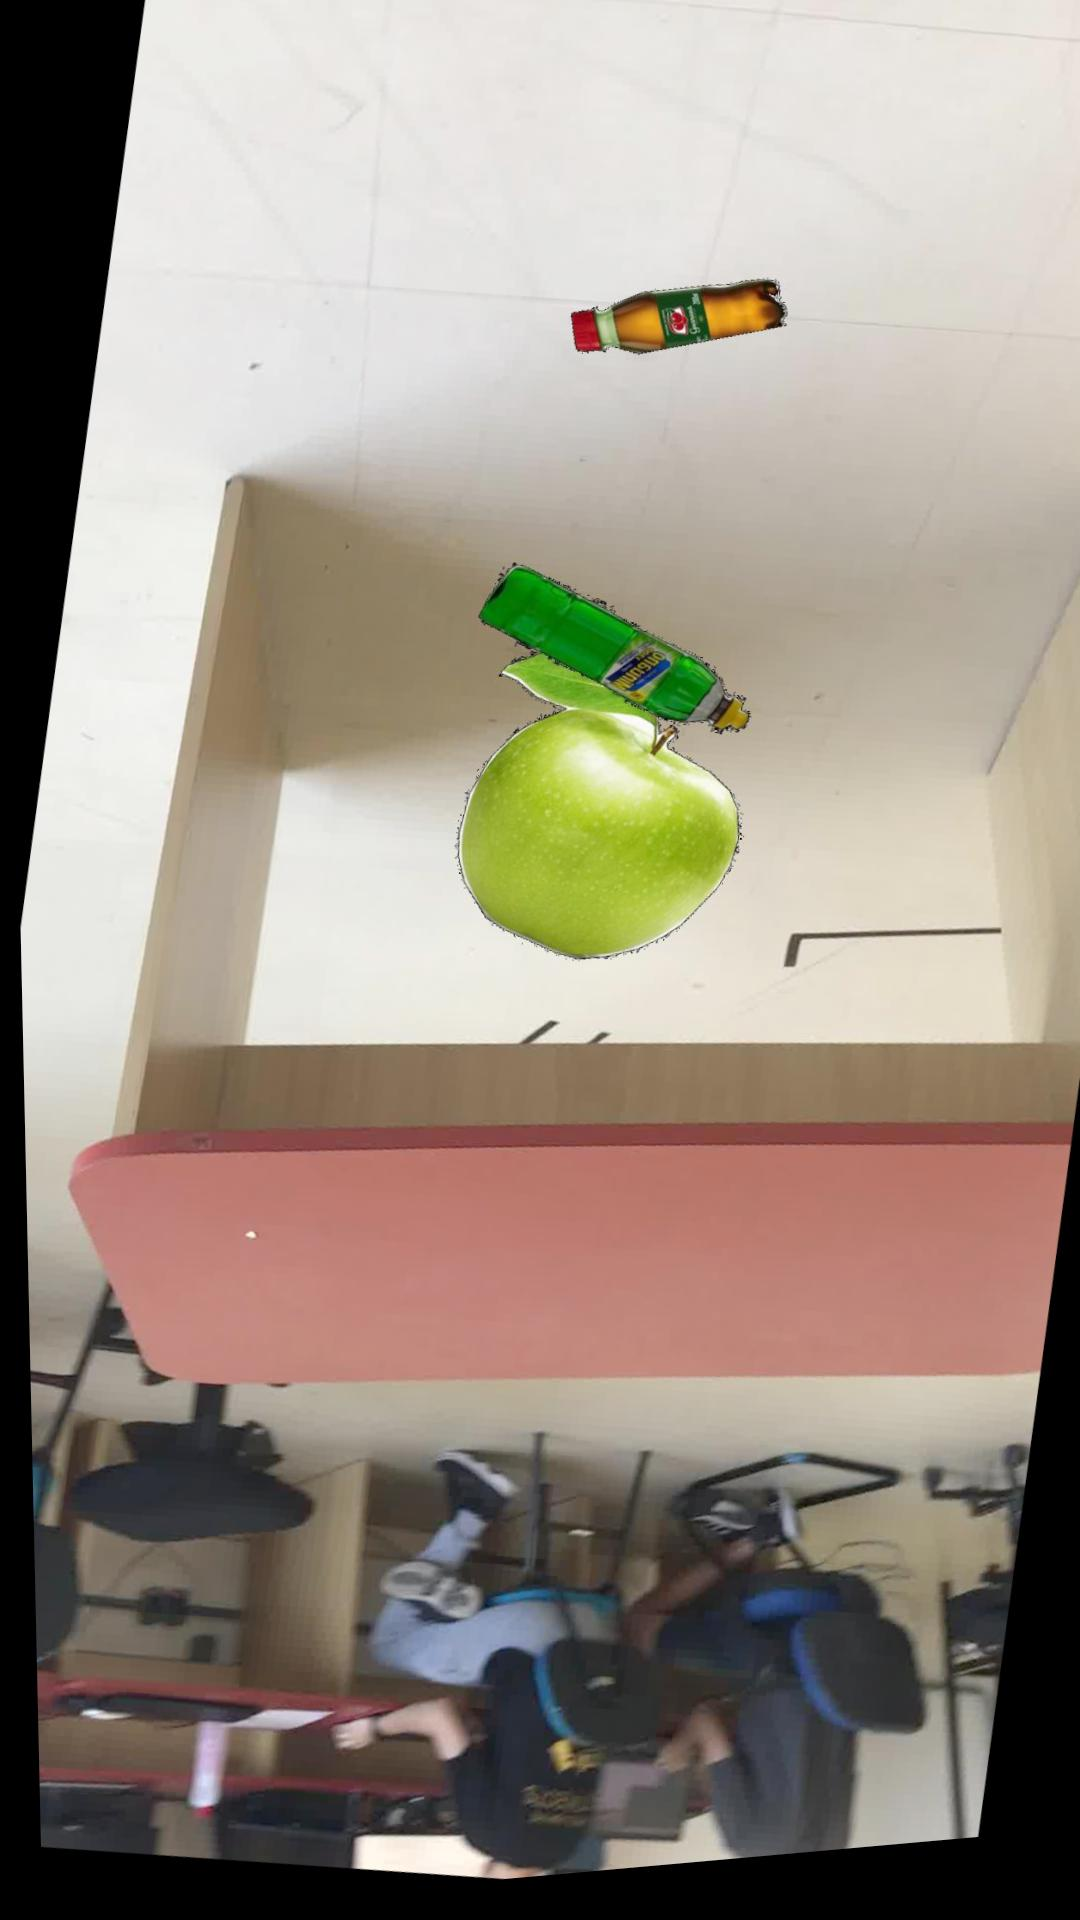cleaner: (475, 572, 748, 748)
green apple: (452, 662, 737, 971)
guarana: (568, 293, 786, 367)
